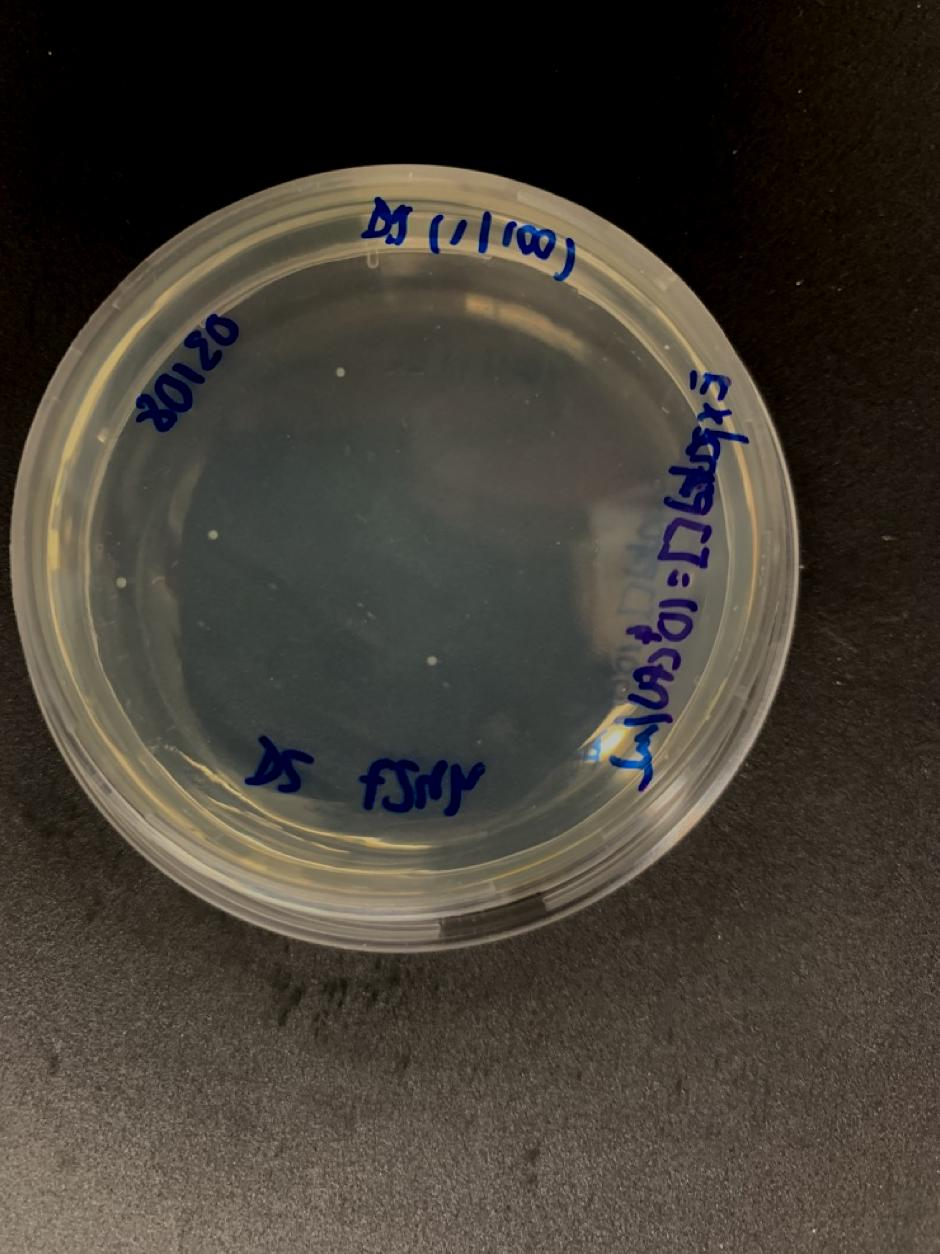colony: (115, 575, 127, 590), (335, 365, 347, 379), (207, 528, 219, 541), (426, 654, 438, 667)
